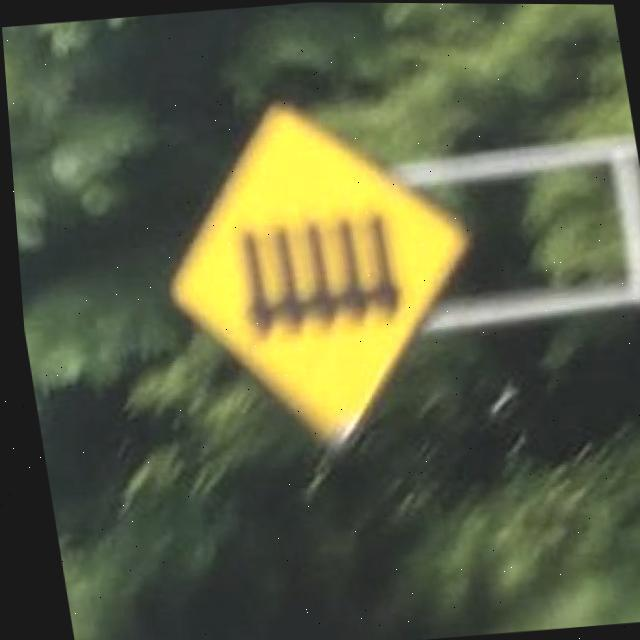Peringatan Perlintasan Kereta Api: (148, 88, 484, 453)
